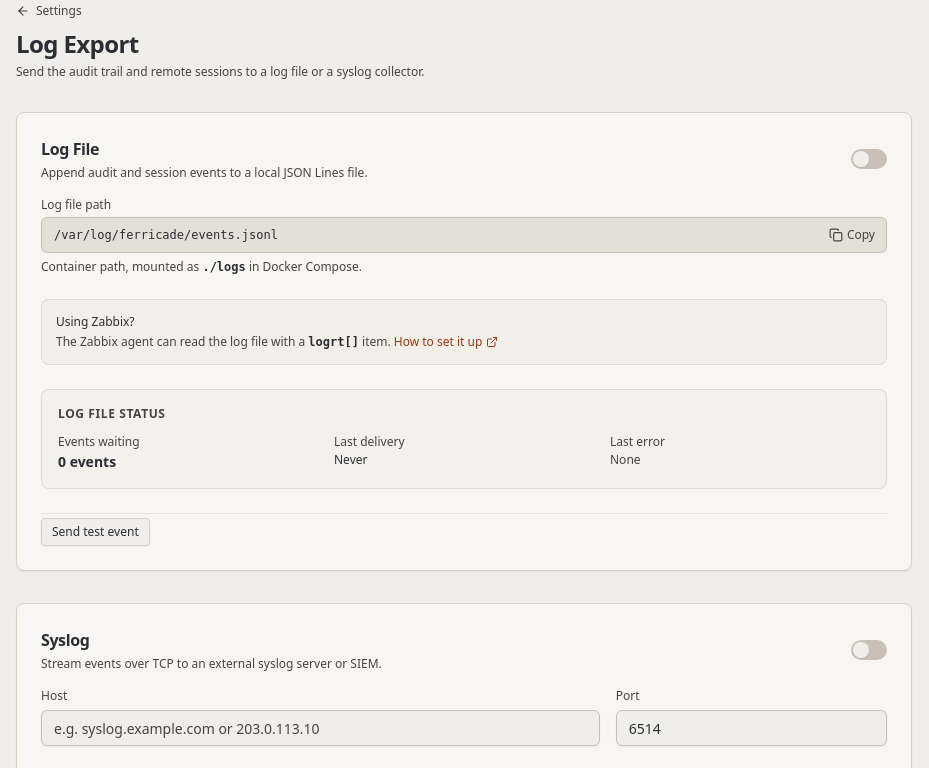
Test: LogExportView › sends test event and displays ok result and error text inline
The width and height of the screenshot is (929, 768).
Check: the text "Log File" is shown, box [41,138,99,160]
Test file output
Step 1. Click the button "Send test event" → (95, 532), box [41,518,150,546]
(page scrolled)
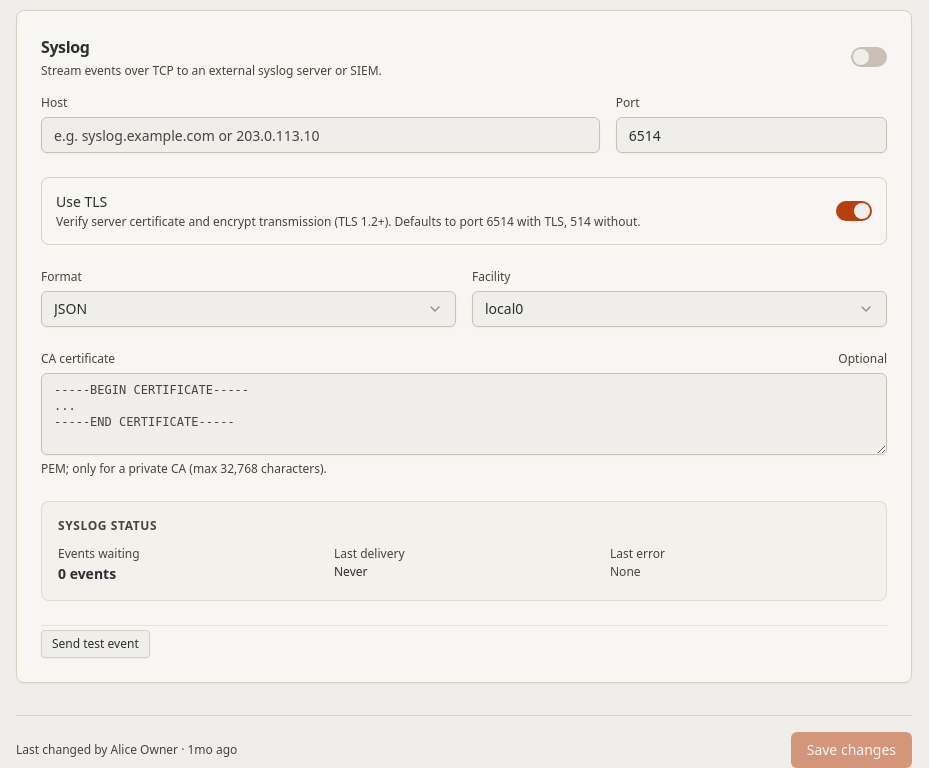
Test syslog output
Step 2. Click the button "Send test event" → (95, 644), box [41,630,150,658]
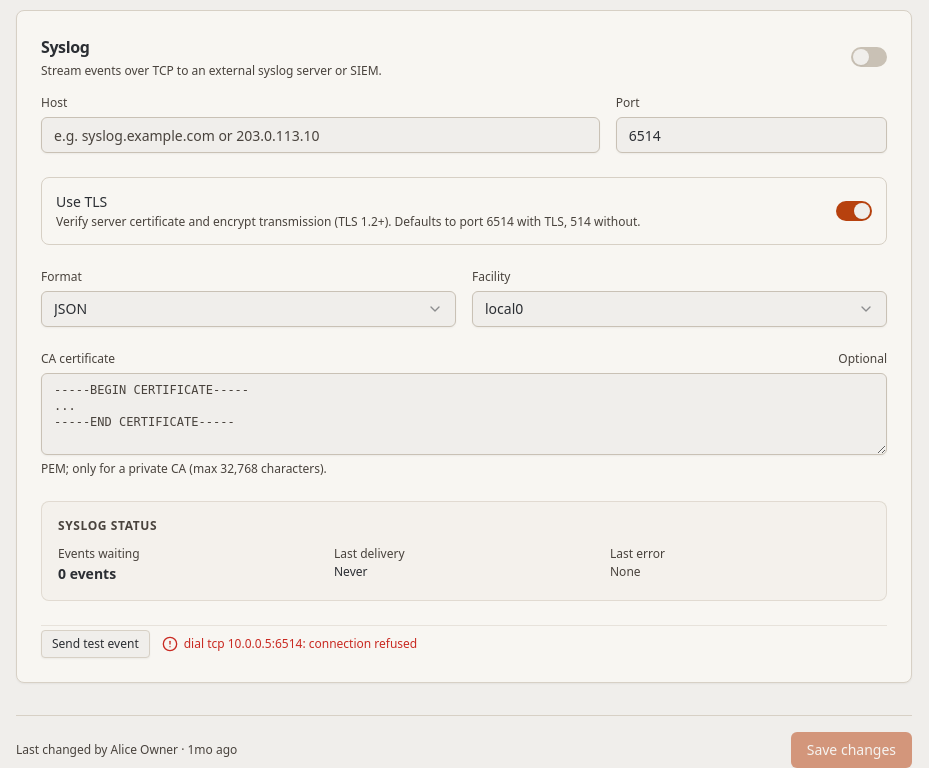
Check: the message reads "dial tcp 10.0.0.5:6514: connection refused", box [184,635,417,652]
